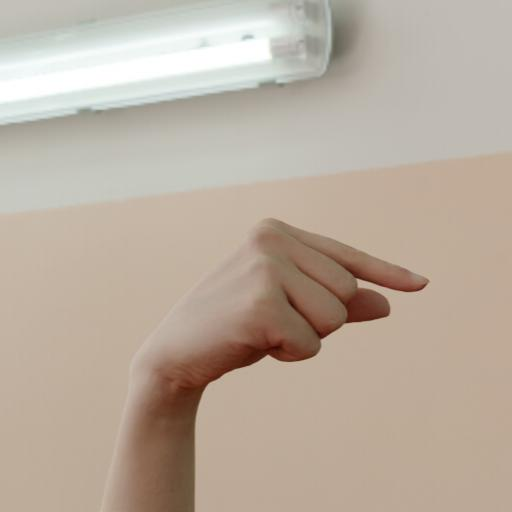G: (66, 197, 454, 512)
